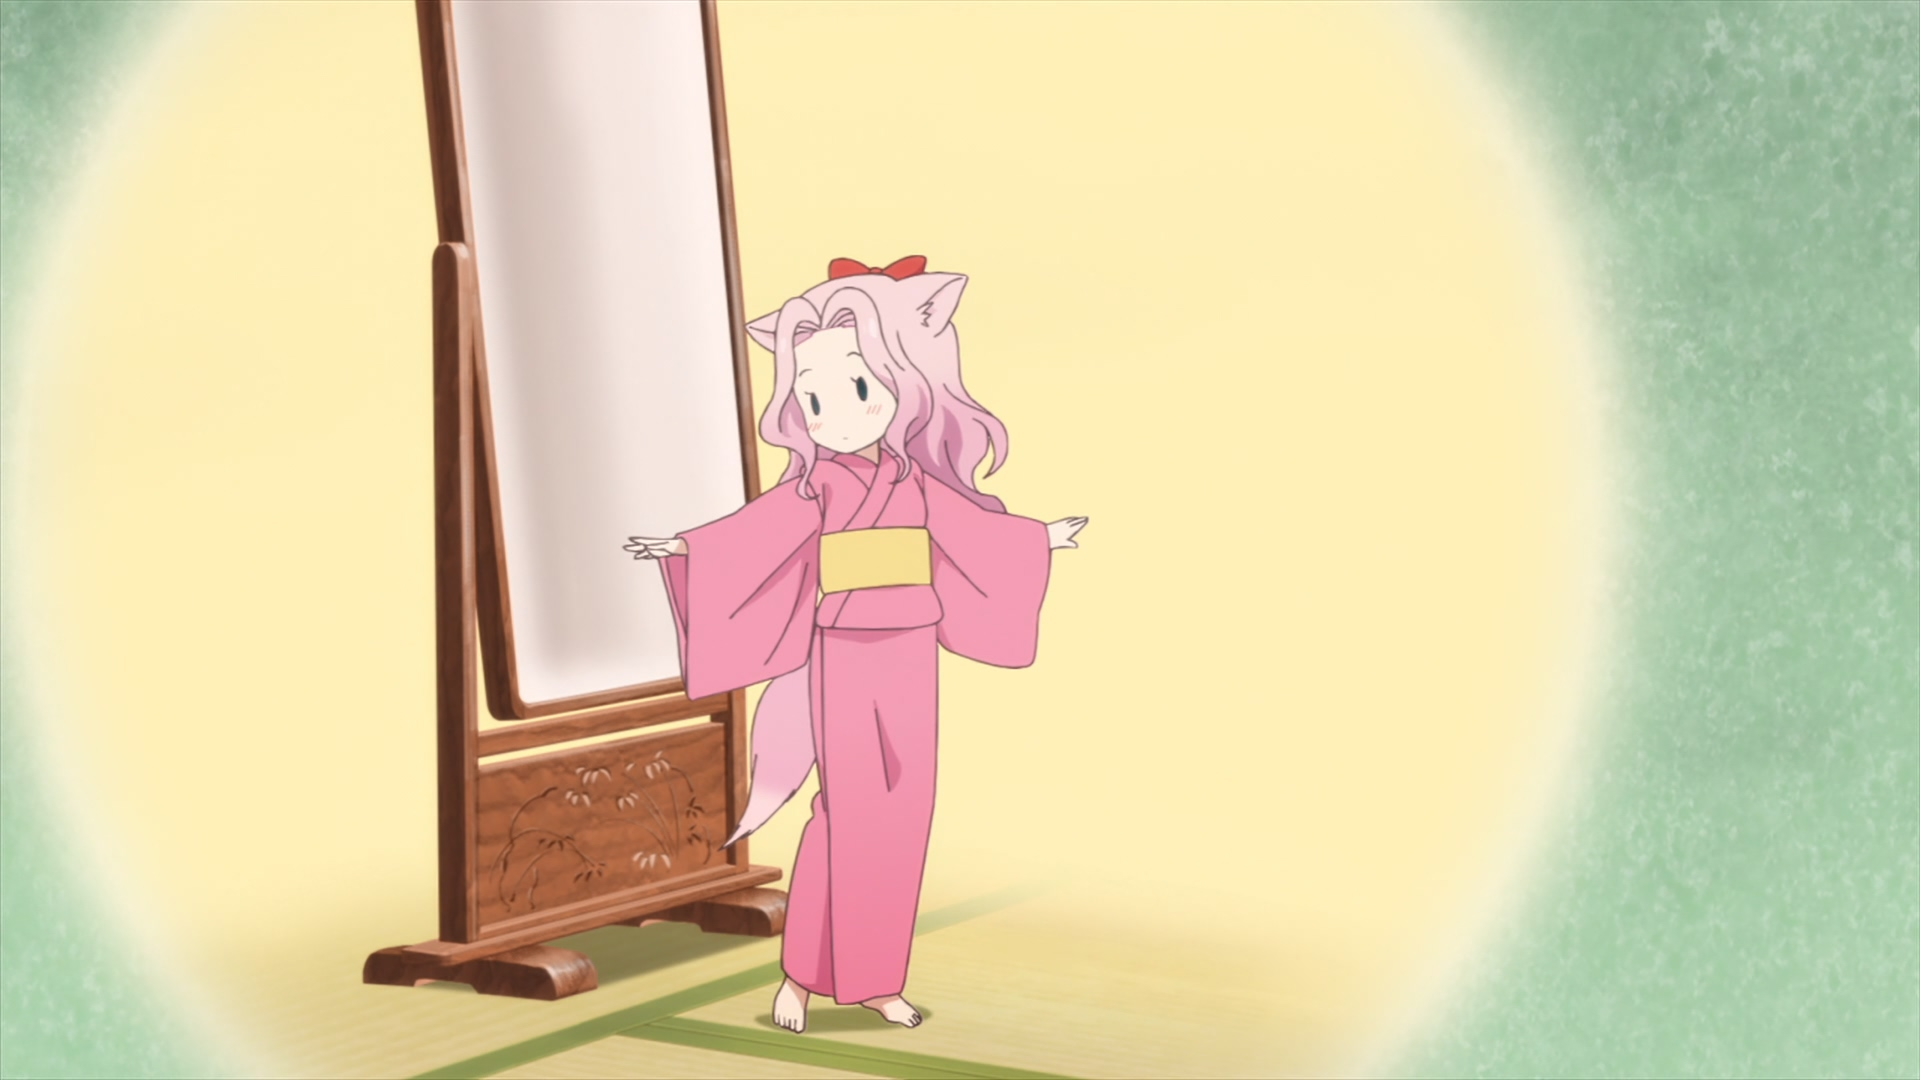莲: (624, 256, 1088, 1035)
